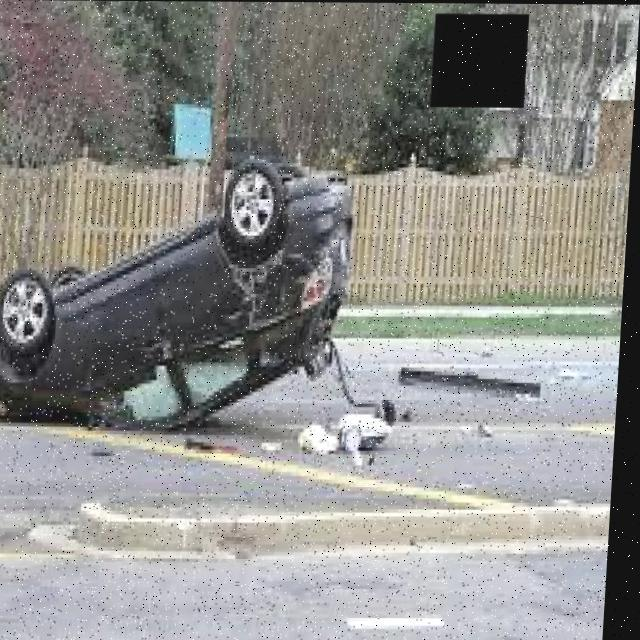multiple_accident: (0, 137, 400, 475)
